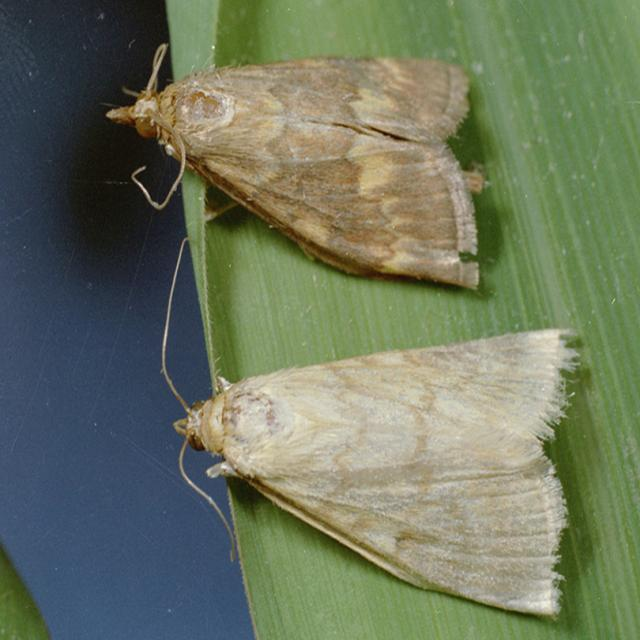cornborer-Adult-: (126, 301, 594, 624), (103, 24, 494, 298)
